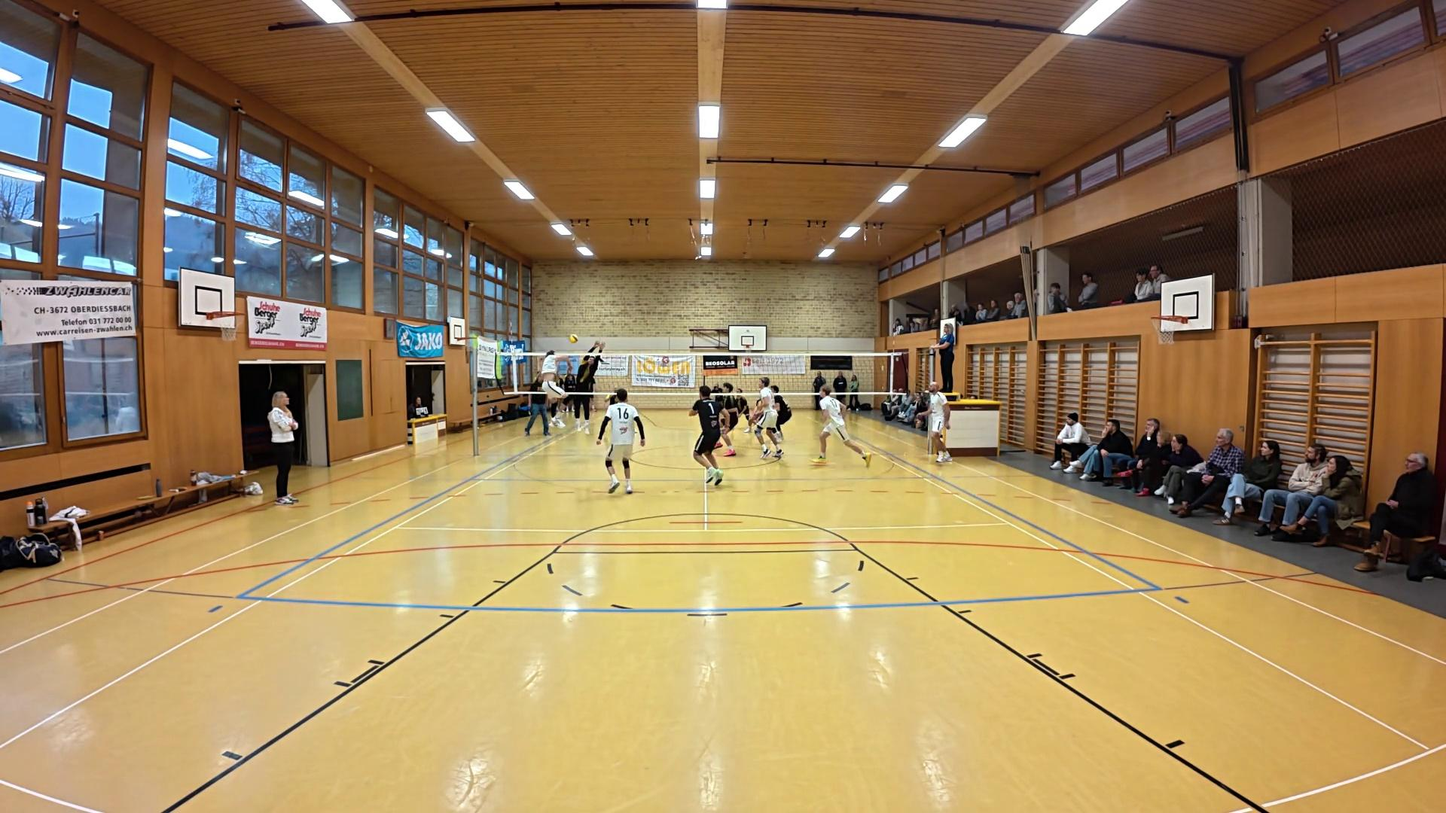Attack: (535, 336, 572, 438)
Block: (570, 336, 606, 438)
Player: (599, 388, 646, 495), (813, 381, 870, 467), (688, 385, 725, 486), (924, 379, 952, 464), (746, 382, 776, 461), (764, 378, 792, 462), (710, 382, 741, 455), (725, 383, 752, 432), (743, 382, 767, 431)
ball: (566, 333, 580, 345)
